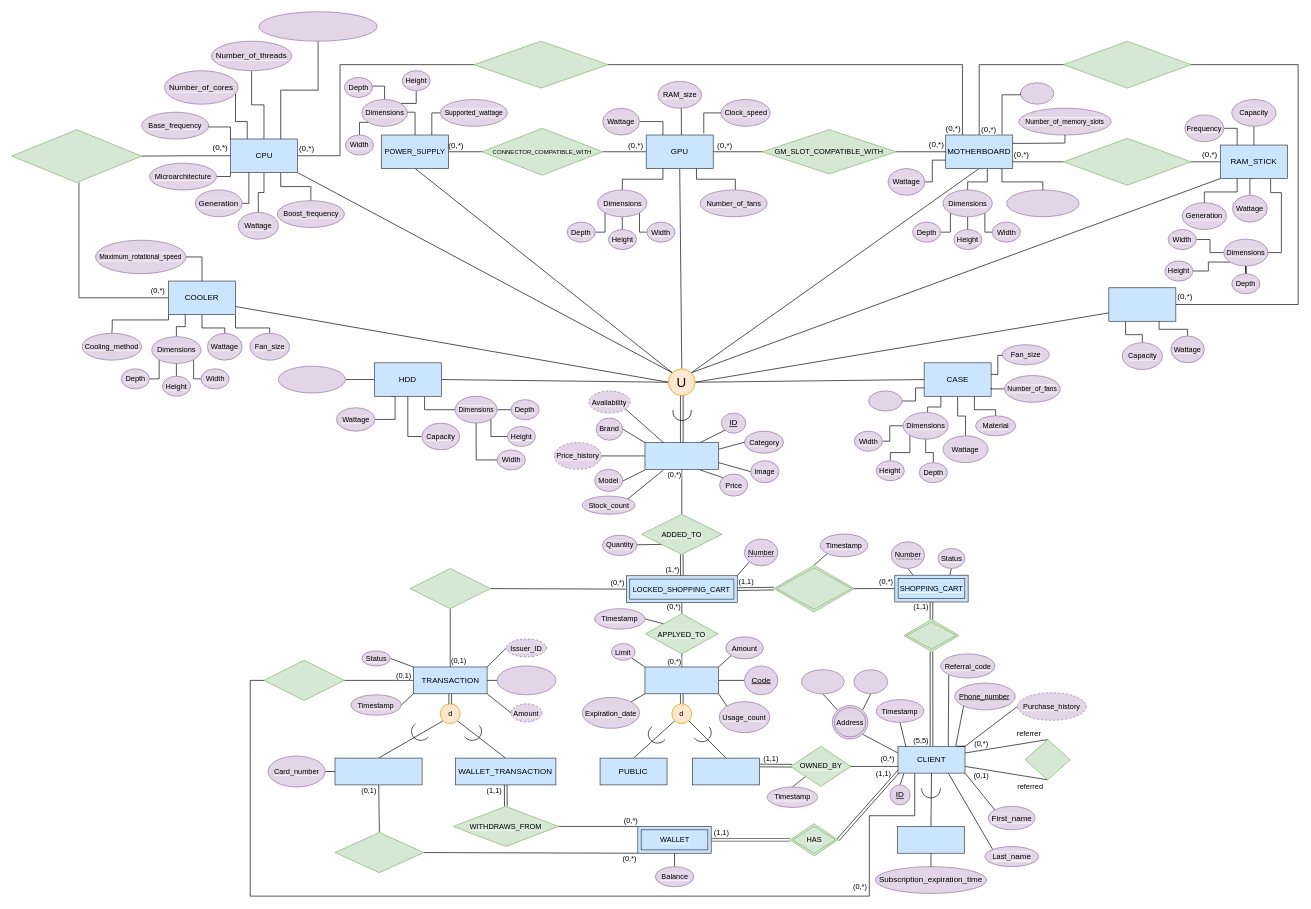
This 1311x909 diagram has some shape labels left out. Here are the shapes that lost their labels. From the top down, the box of each, then its label:
(258, 11, 377, 41): Maximum_addressable_memory_limit
(473, 41, 608, 88): MC_SOCKET_COMPATIBLE_WITH
(1063, 41, 1191, 88): SM_SLOT_COMPATIBLE_ WITH
(1020, 82, 1054, 104): Chipset
(11, 129, 142, 183): CC_SOCKET_COMPATIBLE_WITH
(1063, 138, 1191, 185): RM_SLOT_COMPATIBLE_ WITH
(1006, 189, 1079, 217): Memory_speed _range
(1108, 287, 1176, 321): SSD
(278, 365, 345, 393): Rotational_speed
(868, 390, 902, 411): Type
(644, 442, 719, 469): PRODUCT
(409, 568, 490, 609): ISSUED_FOR
(773, 564, 854, 612): BELONGS_TO
(903, 619, 959, 652): OWNS
(263, 660, 344, 700): Subscribes
(496, 665, 556, 695): Tracking_code
(644, 666, 719, 694): DISCOUNT_CODE
(801, 669, 844, 694): Remainder
(853, 669, 888, 694): Province
(334, 757, 422, 785): BANK_TRANSACTION
(692, 757, 760, 785): PRIVATE
(1024, 739, 1070, 780): REFERS
(334, 832, 424, 873): DEPOSITS_INTO
(897, 826, 964, 853): VIP_CLIENT
